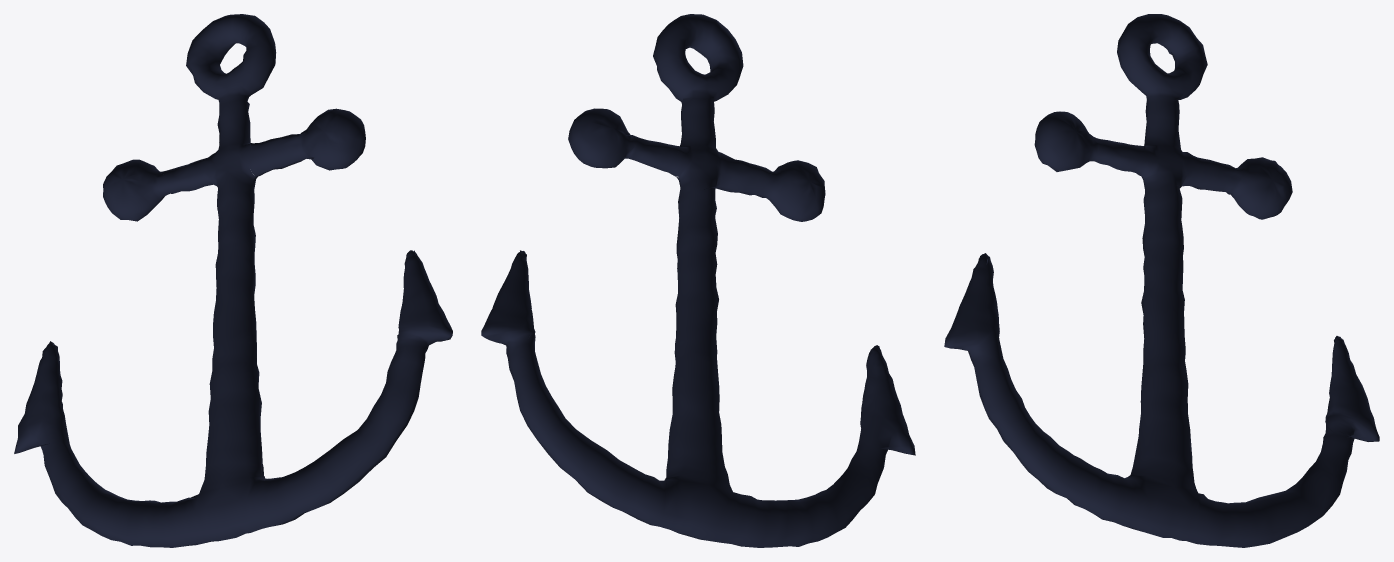
3 renders of one model, left to right at view 1: azimuth 30°, elevation 25°; view 2: azimuth 150°, elevation 25°; view 3: azimuth 330°, elevation 25°, orthographic.
Visible parts, largest first — view 1: Object_3; view 2: Object_3; view 3: Object_3.
Boxes of the visible parts, x1,y1,x2,y2 form: Object_3: (14, 14, 452, 547); Object_3: (481, 14, 915, 547); Object_3: (944, 14, 1379, 547).
Bounding box in the file's own units: 148 × 169 × 15.91.
